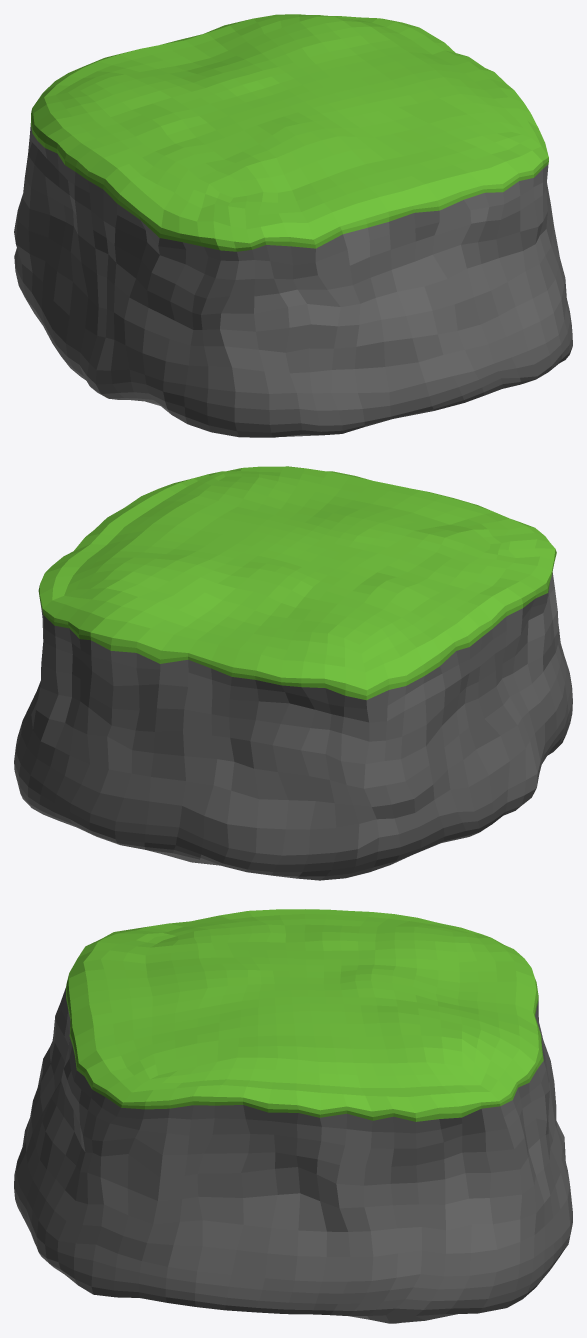
The model's file is boulder1.fbx.
3 renders of one model, top to bottom at view 1: azimuth 30°, elevation 25°; view 2: azimuth 150°, elevation 25°; view 3: azimuth 270°, elevation 25°, orthographic. The views are drawn at different scales.
Parts seen in each view (by area): view 1: Cube.004; view 2: Cube.004; view 3: Cube.004.
Part boxes in pixels (x1,y1,x2,y2): Cube.004: (14, 14, 572, 437); Cube.004: (14, 466, 572, 880); Cube.004: (14, 909, 572, 1323).
Size of the model in its own units: 754 by 416 by 814.
